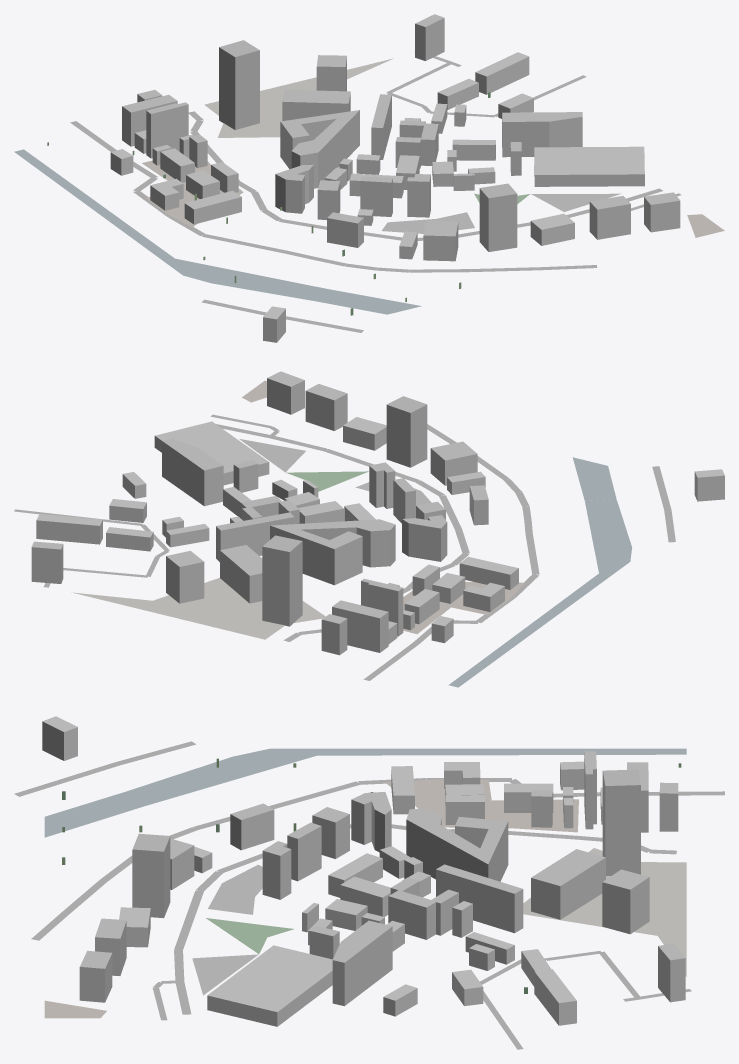
3 views of the same model, one above another, from view 1: azimuth 30°, elevation 25°; view 2: azimuth 150°, elevation 25°; view 3: azimuth 270°, elevation 25° (orthographic). The views are drawn at different scales.
Size of the model in its own units: 574 by 78.56 by 554.
